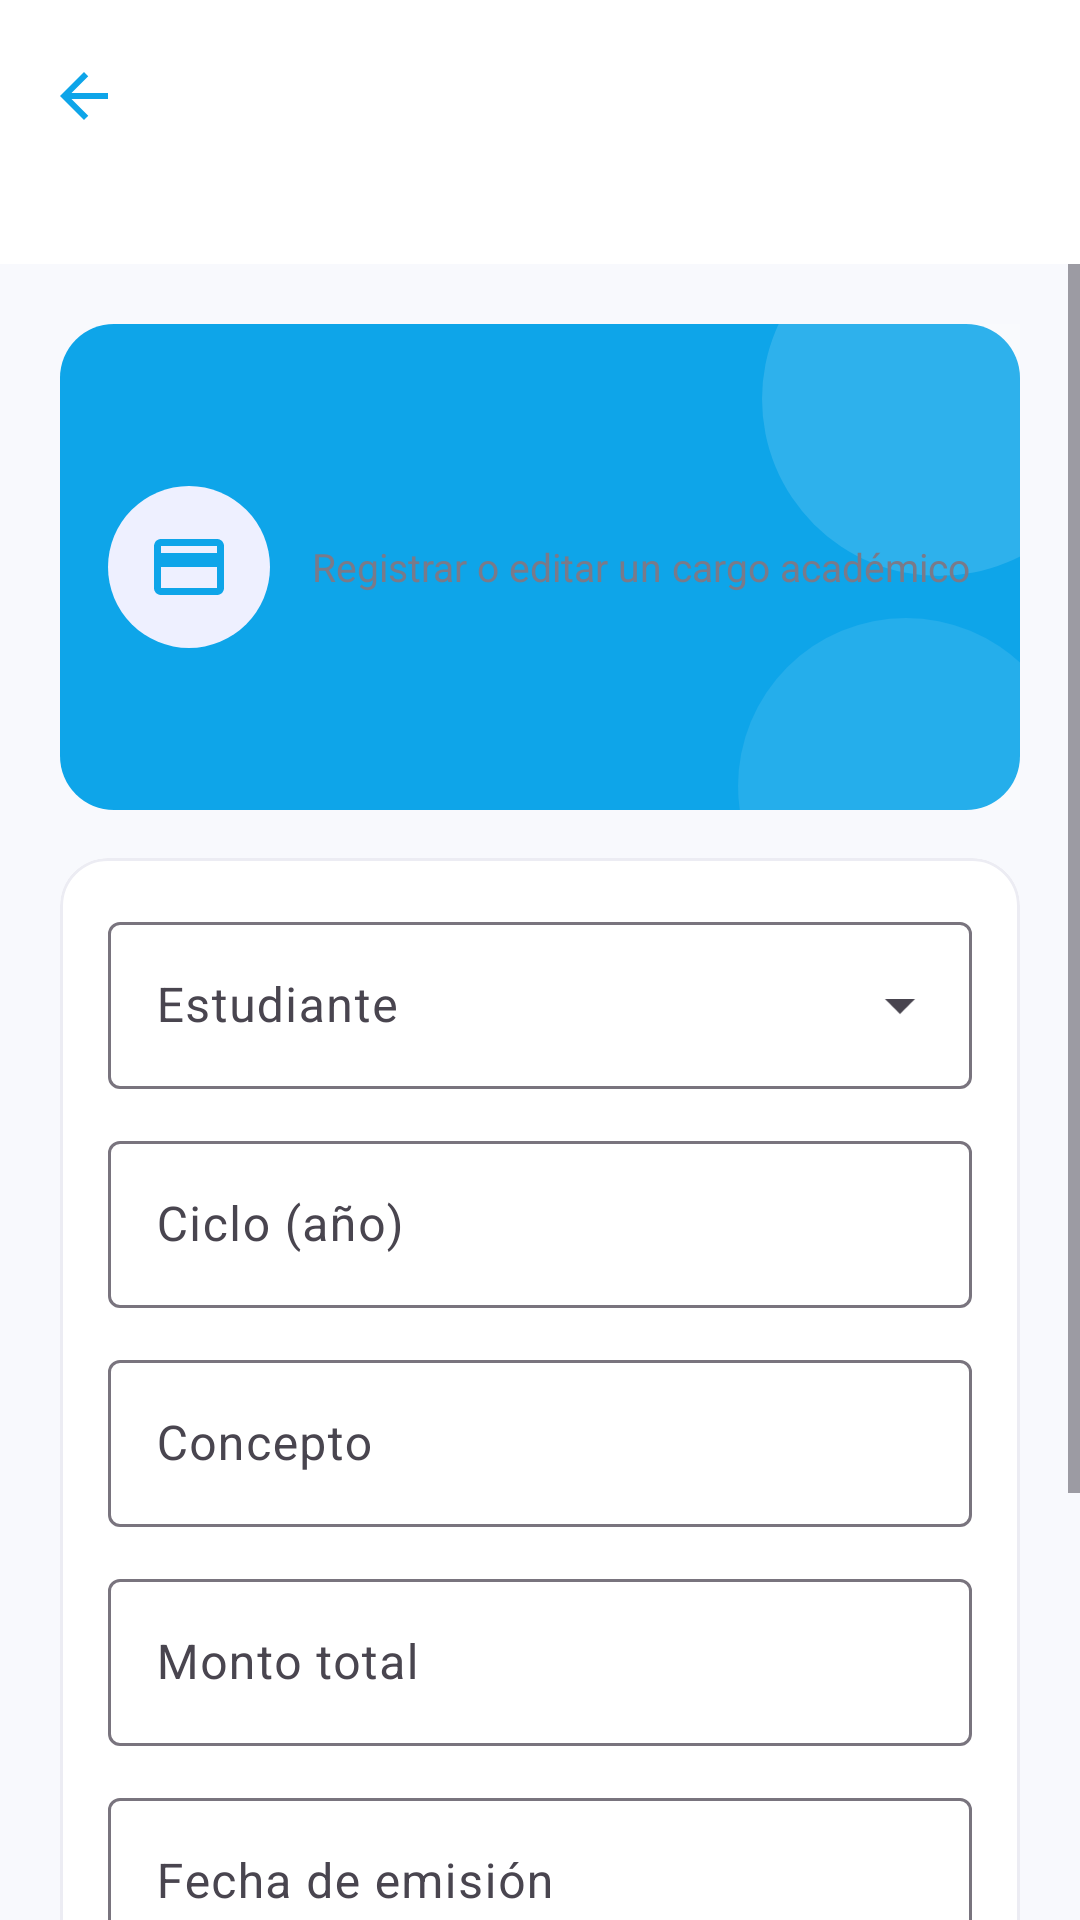

Locate icon controls on the screen. Image size 1080 x 1920, boxes as (x1, y1, x2, y2).
payment: (154, 539, 224, 595)
